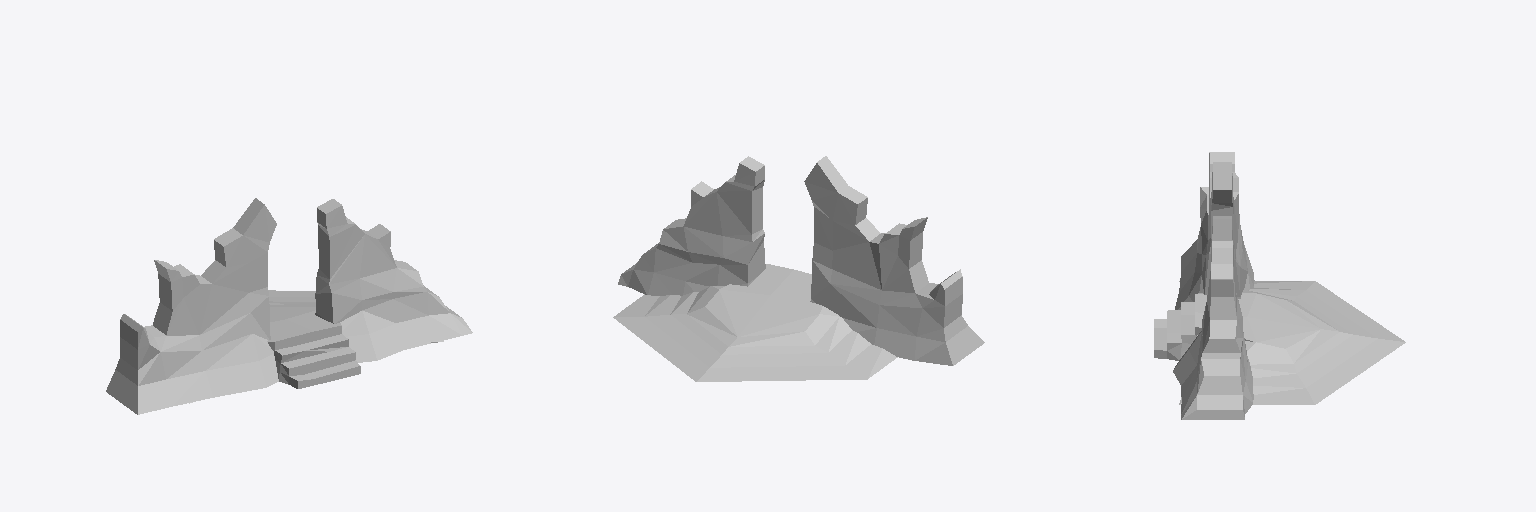
The model's file is ruinGate_01.obj.
3 views of the same model, side by side, from view 1: azimuth 30°, elevation 25°; view 2: azimuth 150°, elevation 25°; view 3: azimuth 270°, elevation 25° (orthographic).
Parts seen in each view (by area): view 1: ruinGate_01_pCube5; view 2: ruinGate_01_pCube5; view 3: ruinGate_01_pCube5.
Boxes of the visible parts, <box> form: ruinGate_01_pCube5: <box>106,198,472,414</box>; ruinGate_01_pCube5: <box>613,156,984,381</box>; ruinGate_01_pCube5: <box>1154,152,1405,419</box>.
Size of the model in its own units: 20.53 by 9.59 by 13.4.